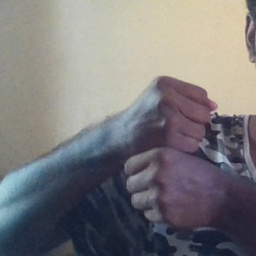G: (121, 71, 222, 224)
